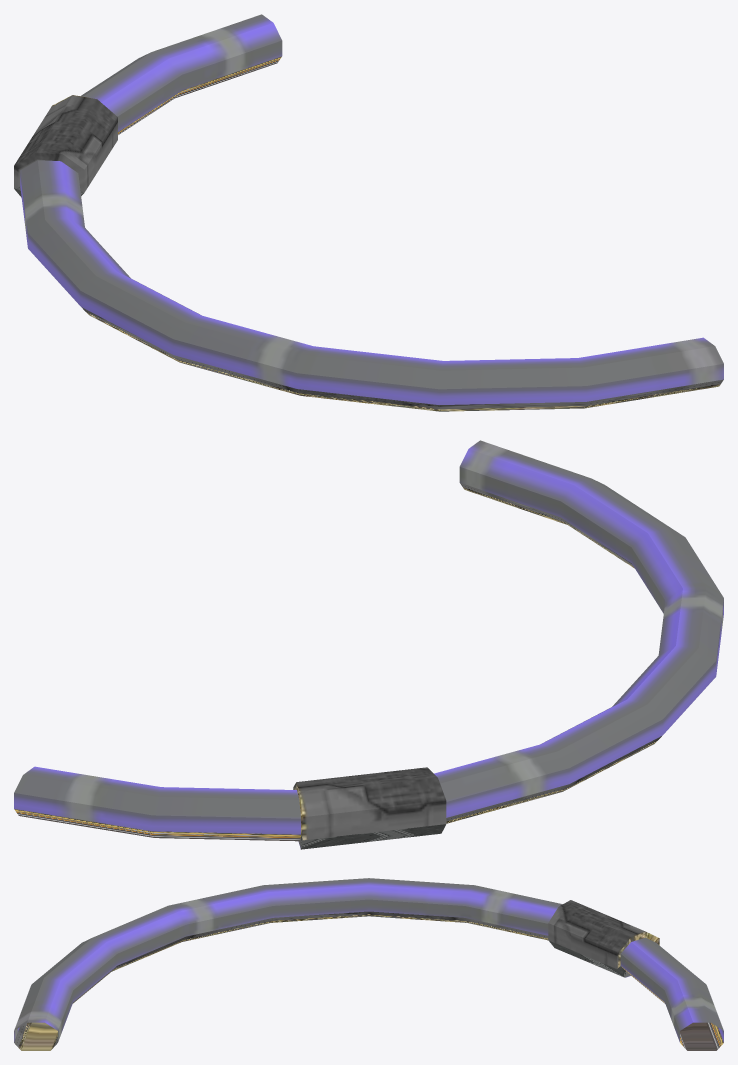
Rendered from pipe-02.glb.
3 renders of one model, top to bottom at view 1: azimuth 30°, elevation 25°; view 2: azimuth 150°, elevation 25°; view 3: azimuth 270°, elevation 25°, orthographic. The views are drawn at different scales.
Visible parts, largest first — view 1: Pipe_02; view 2: Pipe_02; view 3: Pipe_02.
Boxes of the visible parts, x1,y1,x2,y2 form: Pipe_02: [14, 14, 723, 411]; Pipe_02: [14, 440, 723, 849]; Pipe_02: [14, 878, 723, 1050].
Size of the model in its own units: 2.3 by 0.2801 by 4.6.
Materials: 1 (1 with a texture image).
